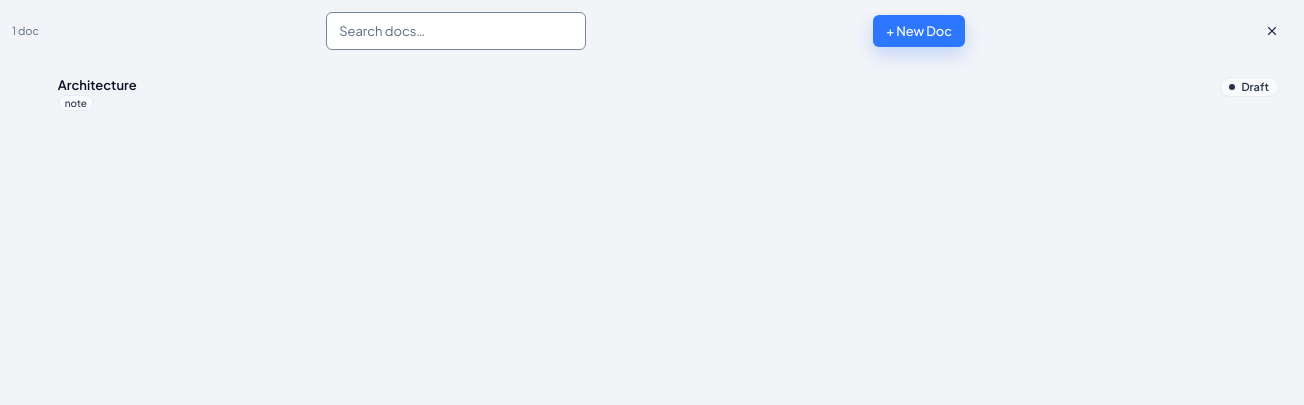
Docs connections (plan 25 — extend the section to Documents) › keeps the editor usable when the connection graph cannot be loaded
Click the text "Architecture": click(97, 85) 58,77 -> 137,93
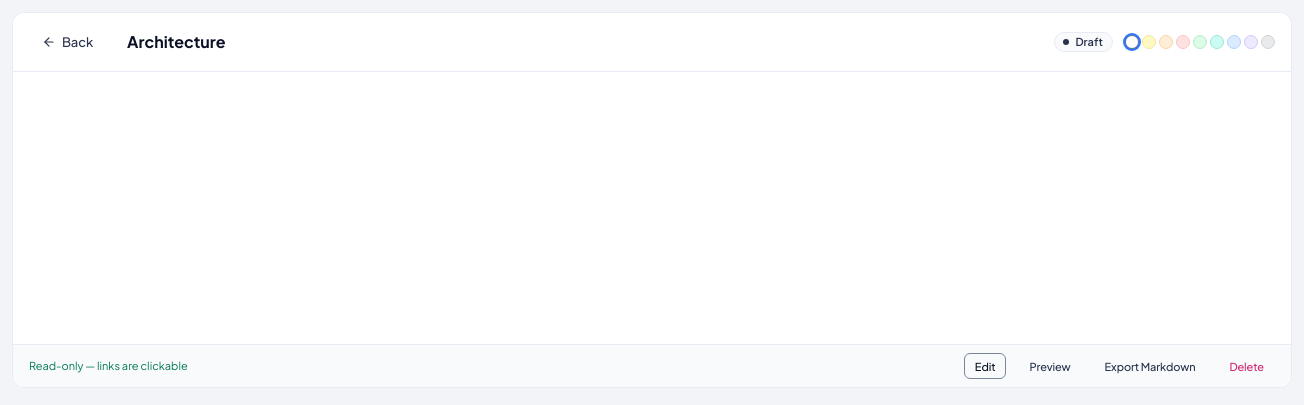
Expected: the field named "title" is shown, 118,25 -> 1042,59
